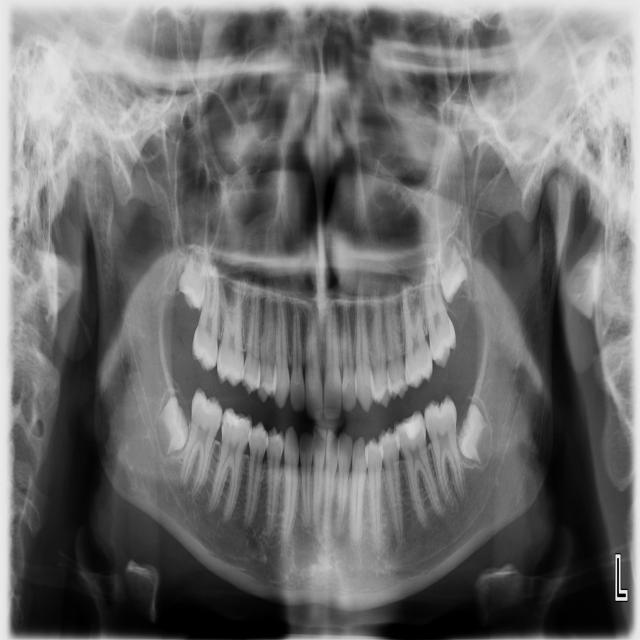mandibula: (88, 155, 569, 605)
